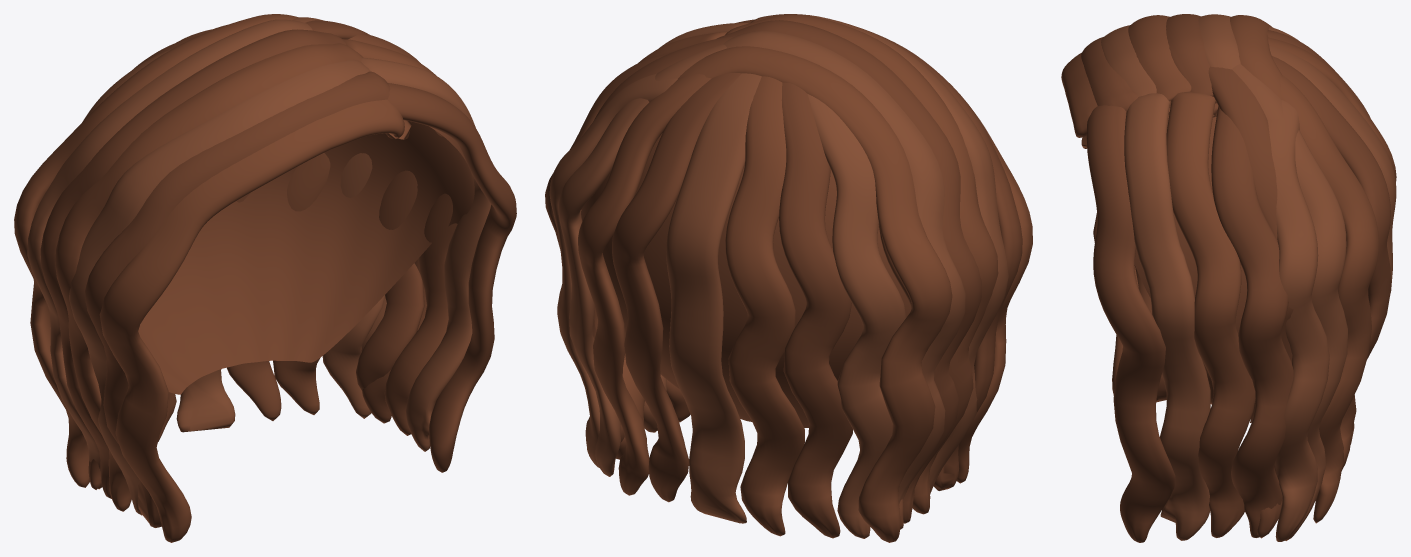
Rendered from Feminine-curls-ears261-hair.glb.
The picture shows the model from 3 angles, left to right: view 1: azimuth 30°, elevation 25°; view 2: azimuth 150°, elevation 25°; view 3: azimuth 270°, elevation 25°; orthographic projection.
Visible parts, largest first — view 1: 226 hair / Hair / sculpted 0.001, 226 hair / Hair / sculpted 1.001, 226 hair / Hair / sculpted 1.002, 226 hair / Hair / sculpted 2.001; view 2: 226 hair / Hair / sculpted 2.001, 226 hair / Hair / sculpted 0.001, 226 hair / Hair / sculpted 1.002, 226 hair / Hair / sculpted 1.001; view 3: 226 hair / Hair / sculpted 1.002, 226 hair / Hair / sculpted 2.001, 226 hair / Hair / sculpted 0.001, 226 hair / Hair / sculpted 1.001.
Part boxes in pixels (x1,y1,x2,y2): 226 hair / Hair / sculpted 0.001: (14, 14, 457, 542); 226 hair / Hair / sculpted 1.001: (138, 122, 474, 394); 226 hair / Hair / sculpted 1.002: (40, 20, 516, 527); 226 hair / Hair / sculpted 2.001: (27, 17, 491, 515); 226 hair / Hair / sculpted 2.001: (549, 14, 1008, 538); 226 hair / Hair / sculpted 0.001: (578, 14, 1032, 542); 226 hair / Hair / sculpted 1.002: (545, 14, 1022, 538); 226 hair / Hair / sculpted 1.001: (581, 133, 911, 427); 226 hair / Hair / sculpted 1.002: (1081, 14, 1390, 542); 226 hair / Hair / sculpted 2.001: (1101, 14, 1396, 541); 226 hair / Hair / sculpted 0.001: (1061, 15, 1396, 537); 226 hair / Hair / sculpted 1.001: (1134, 115, 1255, 422).
Bounding box in the file's own units: 1.09 × 1.12 × 0.769.
